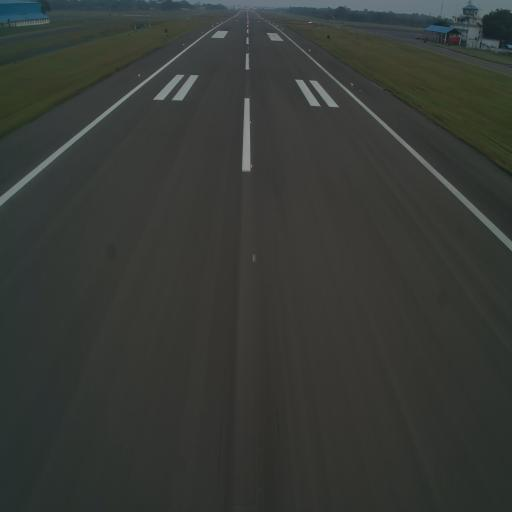off: (248, 78, 251, 83), (249, 94, 252, 99)
on: (251, 252, 258, 265), (247, 160, 254, 171), (181, 41, 187, 49), (308, 47, 314, 54), (248, 117, 252, 126), (137, 70, 141, 78), (349, 81, 354, 87)
